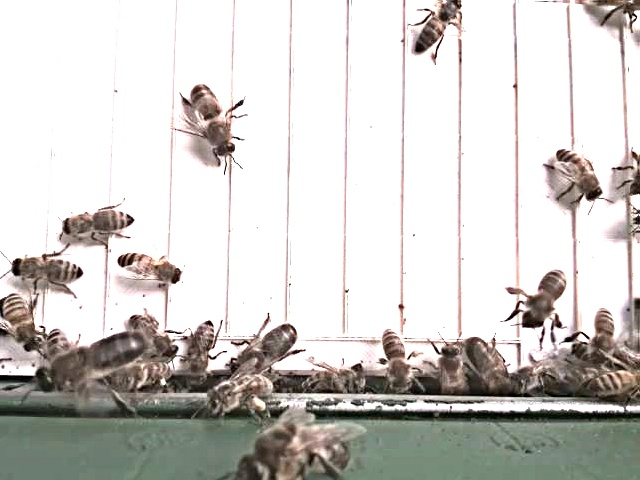Drone: (185, 77, 241, 159), (229, 318, 302, 375), (462, 328, 518, 395)
Worker: (411, 0, 469, 56), (522, 265, 570, 330), (554, 143, 605, 203), (60, 202, 142, 237), (114, 249, 190, 285), (8, 252, 88, 285), (2, 288, 42, 354), (186, 314, 222, 381), (382, 324, 414, 394), (594, 302, 622, 363)
